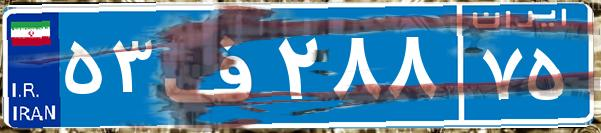2: (273, 28, 330, 110)
3: (110, 28, 158, 105)
5: (57, 26, 110, 107), (525, 38, 570, 115)
7: (475, 38, 525, 113)
8: (385, 28, 445, 110), (330, 28, 385, 110)
ف: (158, 15, 273, 115)
